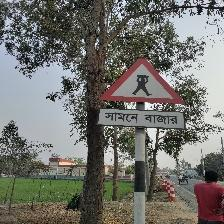Market-in-front: (97, 57, 187, 129)
